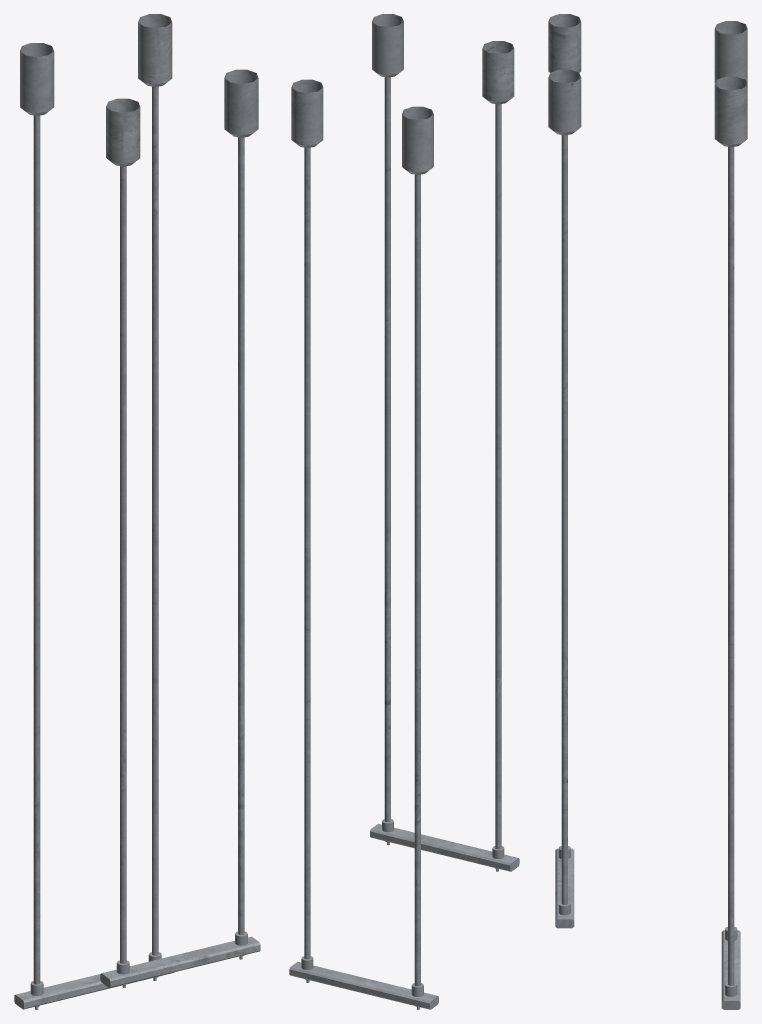
File: Prop_MotorBike_Skeleton_Rope.fbx
3 views of the same model, side by side, from view 1: azimuth 30°, elevation 25°; view 2: azimuth 150°, elevation 25°; view 3: azimuth 270°, elevation 25° (orthographic). The views are drawn at different scales.
Parts seen in each view (by area): view 1: Prop_MotorBike_Skeleton_Rope; view 2: Prop_MotorBike_Skeleton_Rope; view 3: Prop_MotorBike_Skeleton_Rope.
Boxes of the visible parts, <box> form: Prop_MotorBike_Skeleton_Rope: <box>14,14,260,1009</box>; Prop_MotorBike_Skeleton_Rope: <box>289,14,519,1009</box>; Prop_MotorBike_Skeleton_Rope: <box>548,14,747,1009</box>.
Bounding box in the file's own units: 34.75 × 212 × 41.17.
